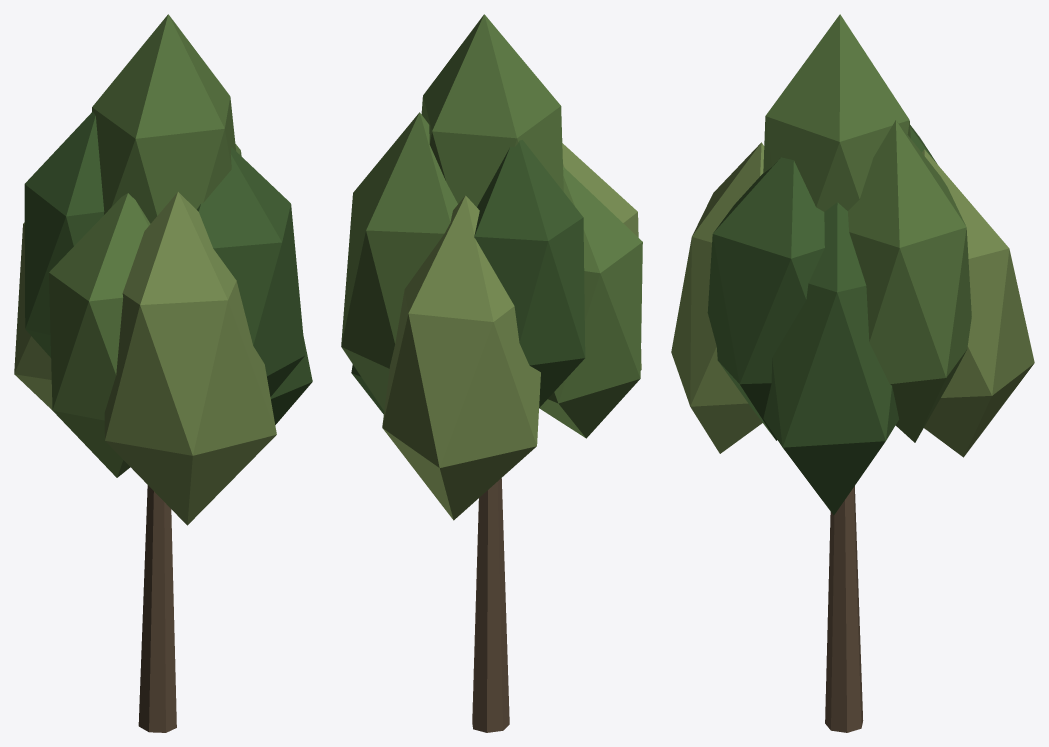
The model's file is upright-lod1.glb.
3 renders of one model, left to right at view 1: azimuth 30°, elevation 25°; view 2: azimuth 150°, elevation 25°; view 3: azimuth 270°, elevation 25°, orthographic.
Visible parts, largest first — view 1: upright_LOD1; view 2: upright_LOD1; view 3: upright_LOD1.
Part boxes in pixels (bbox=[...]): upright_LOD1: bbox=[14, 14, 312, 732]; upright_LOD1: bbox=[341, 14, 642, 732]; upright_LOD1: bbox=[671, 14, 1034, 732].
Bounding box in the file's own units: 3.41 × 9.2 × 4.24.
